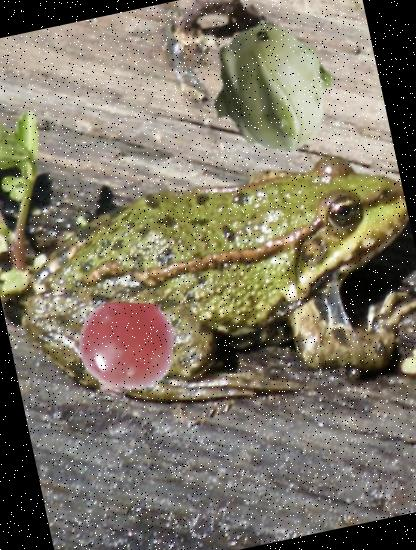Kohlrabi: (193, 7, 354, 168)
Redcurrant: (68, 294, 185, 410)
